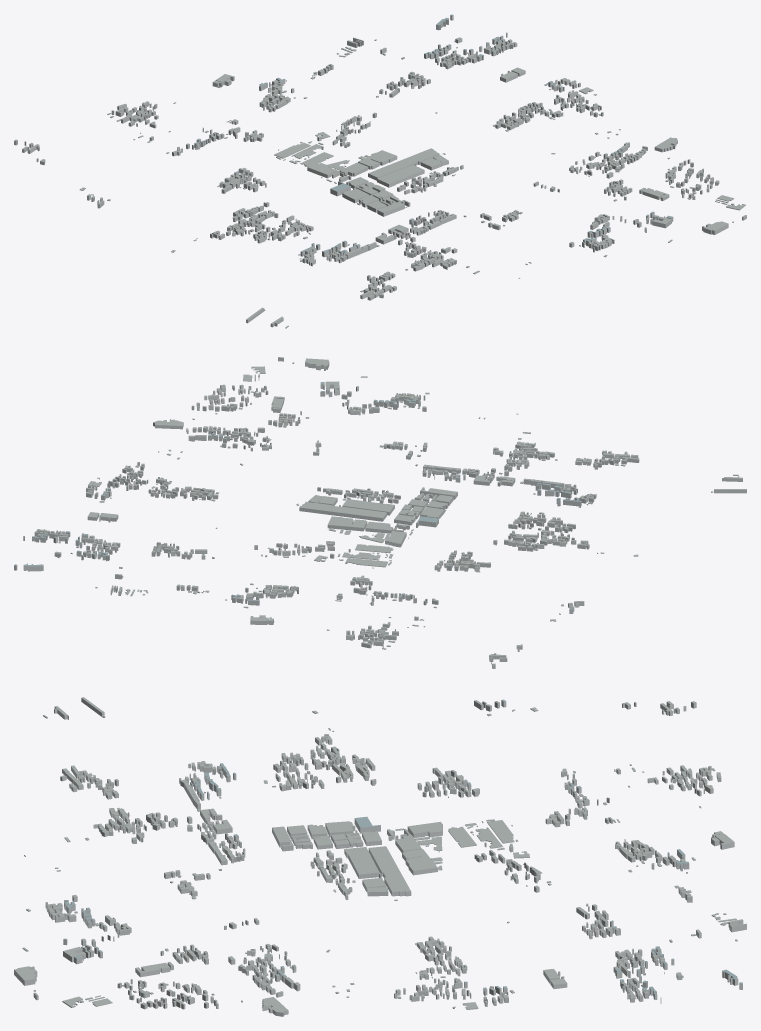
Rendered from far.glb.
3 renders of one model, top to bottom at view 1: azimuth 30°, elevation 25°; view 2: azimuth 150°, elevation 25°; view 3: azimuth 270°, elevation 25°, orthographic. The views are drawn at different scales.
Bounding box in the file's own units: 2174 × 22 × 2133.
